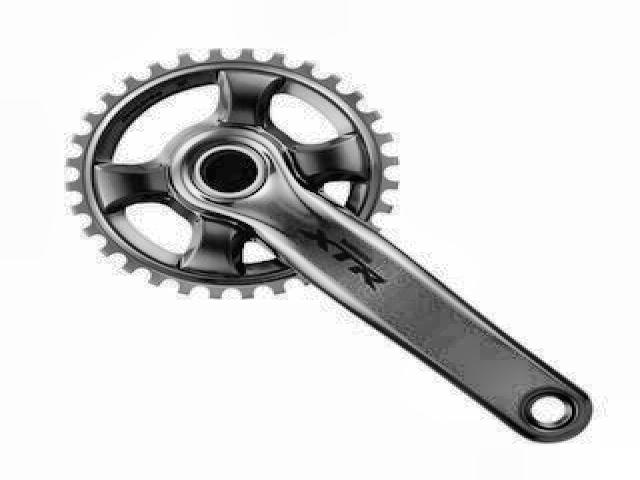cranks_set: (63, 46, 595, 444)
